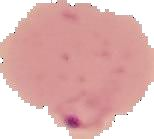parasitized: (53, 86, 120, 136)
